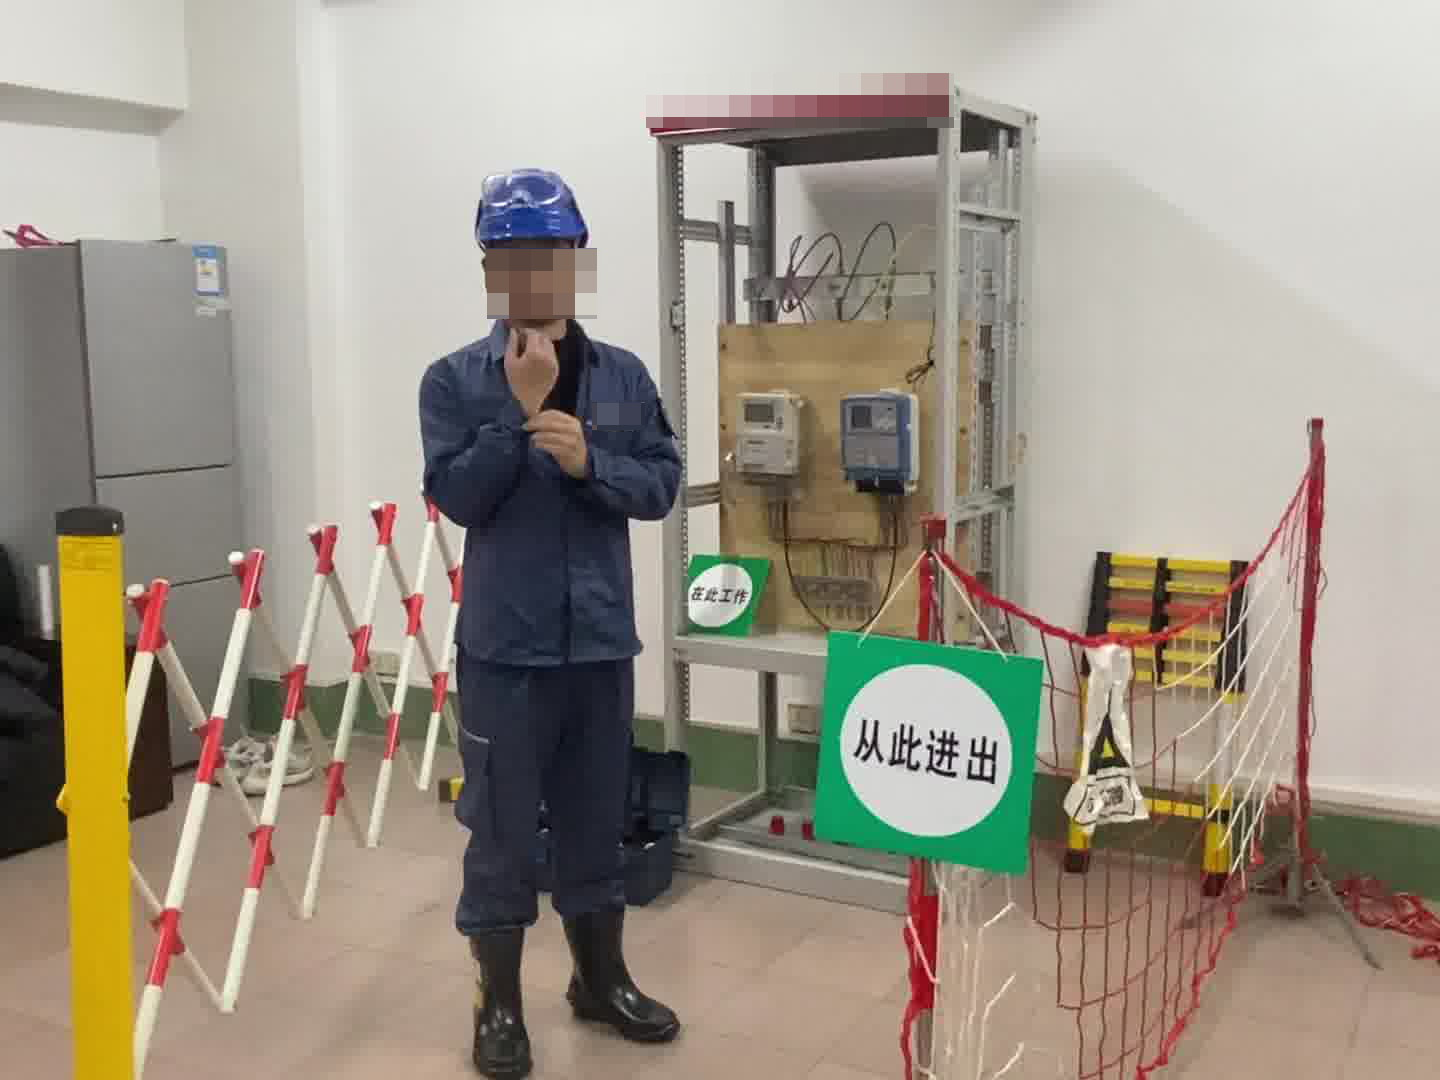downsuit: (448, 661, 645, 962)
halt: (469, 165, 596, 330)
hand: (499, 327, 559, 408), (528, 411, 588, 481)
intosign: (824, 631, 1022, 864)
person: (415, 159, 693, 1080)
shoe: (565, 914, 678, 1045), (448, 929, 543, 1073)
upsuit: (417, 320, 682, 668)
worksign: (679, 549, 771, 636)
